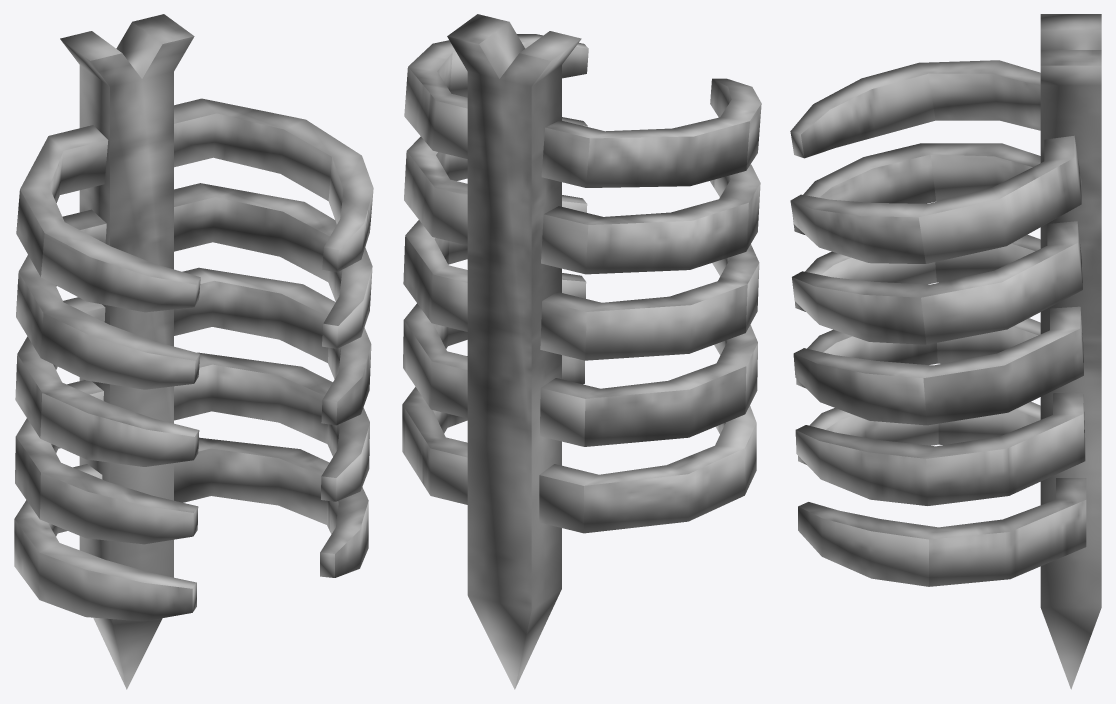
The model's file is gib3.glb.
The picture shows the model from 3 angles, left to right: view 1: azimuth 30°, elevation 25°; view 2: azimuth 150°, elevation 25°; view 3: azimuth 270°, elevation 25°; orthographic projection.
Visible parts, largest first — view 1: Cube.001, Cube; view 2: Cube.001, Cube; view 3: Cube.001, Cube.
Part boxes in pixels (x1,y1,x2,y2): Cube.001: (14,98,373,621); Cube: (60,14,194,689); Cube.001: (402,34,761,533); Cube: (447,14,581,689); Cube.001: (790,60,1086,586); Cube: (1040,14,1101,689).
Size of the model in its own units: 0.4424 by 0.8693 by 0.3767.
1 material, 1 textured.
